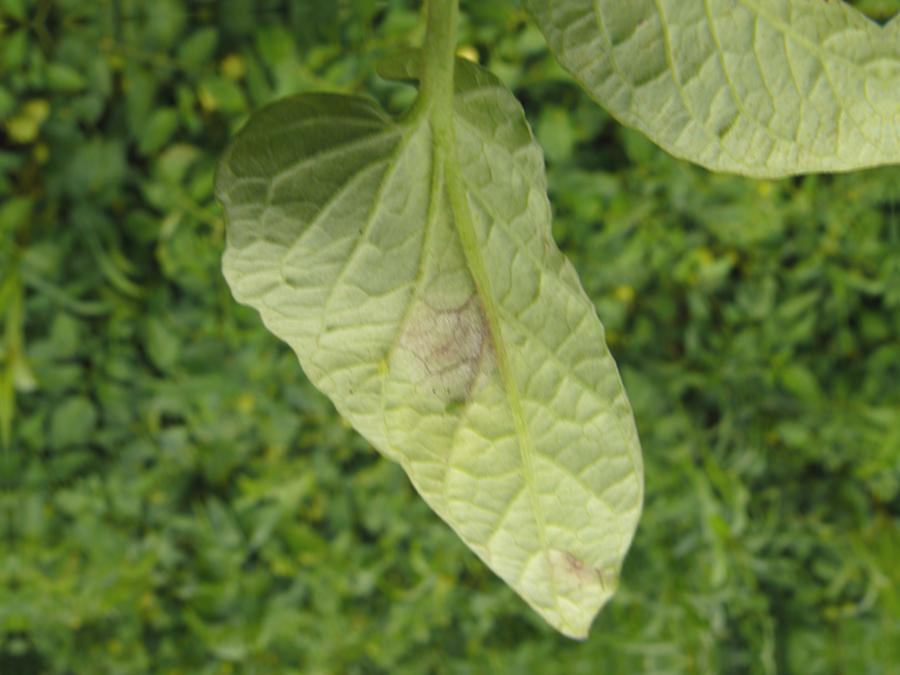Tomato leaf late blight: (179, 27, 665, 673)
